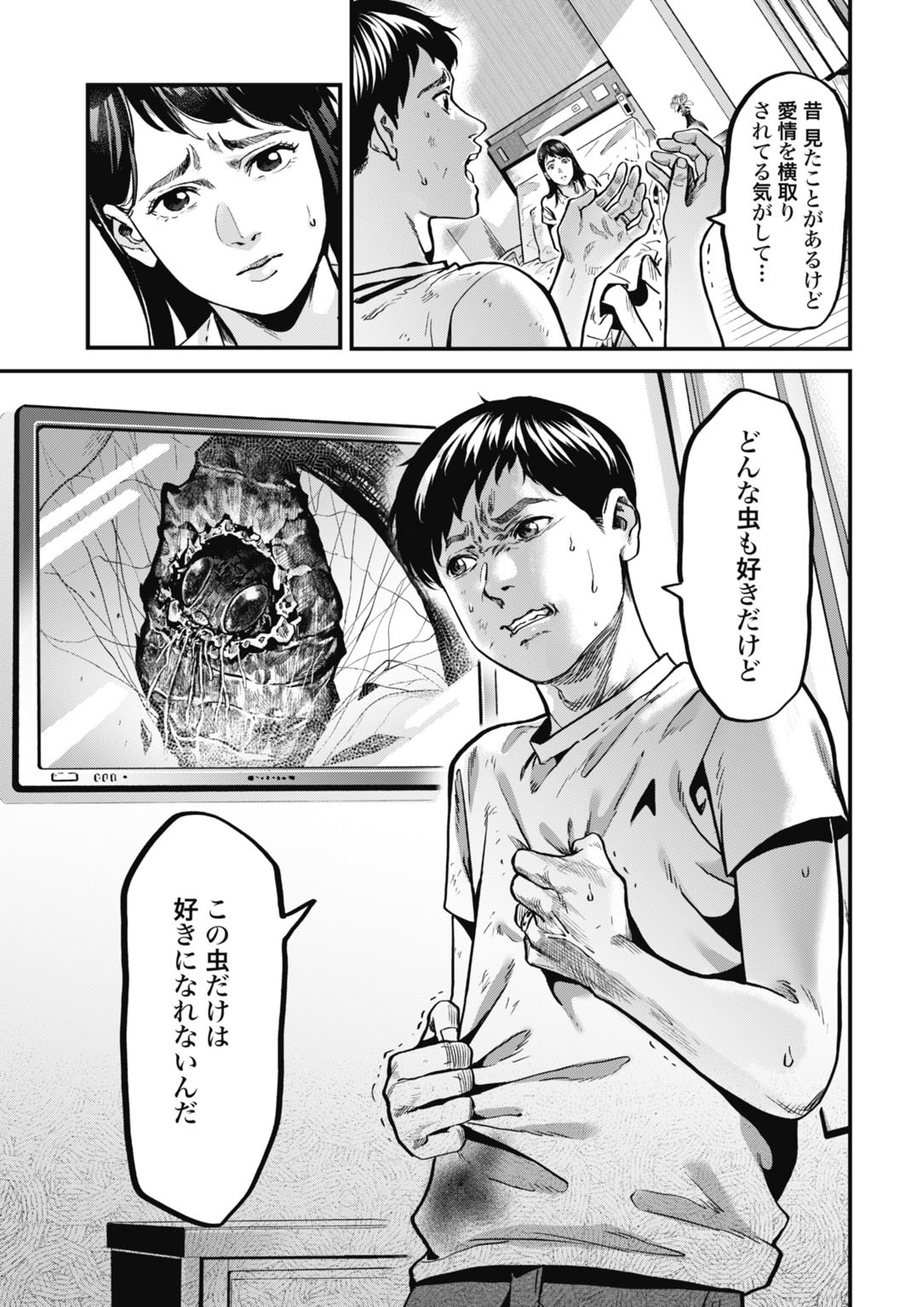bubbles: (117, 808, 320, 1221), (667, 381, 818, 726), (709, 70, 847, 335)
